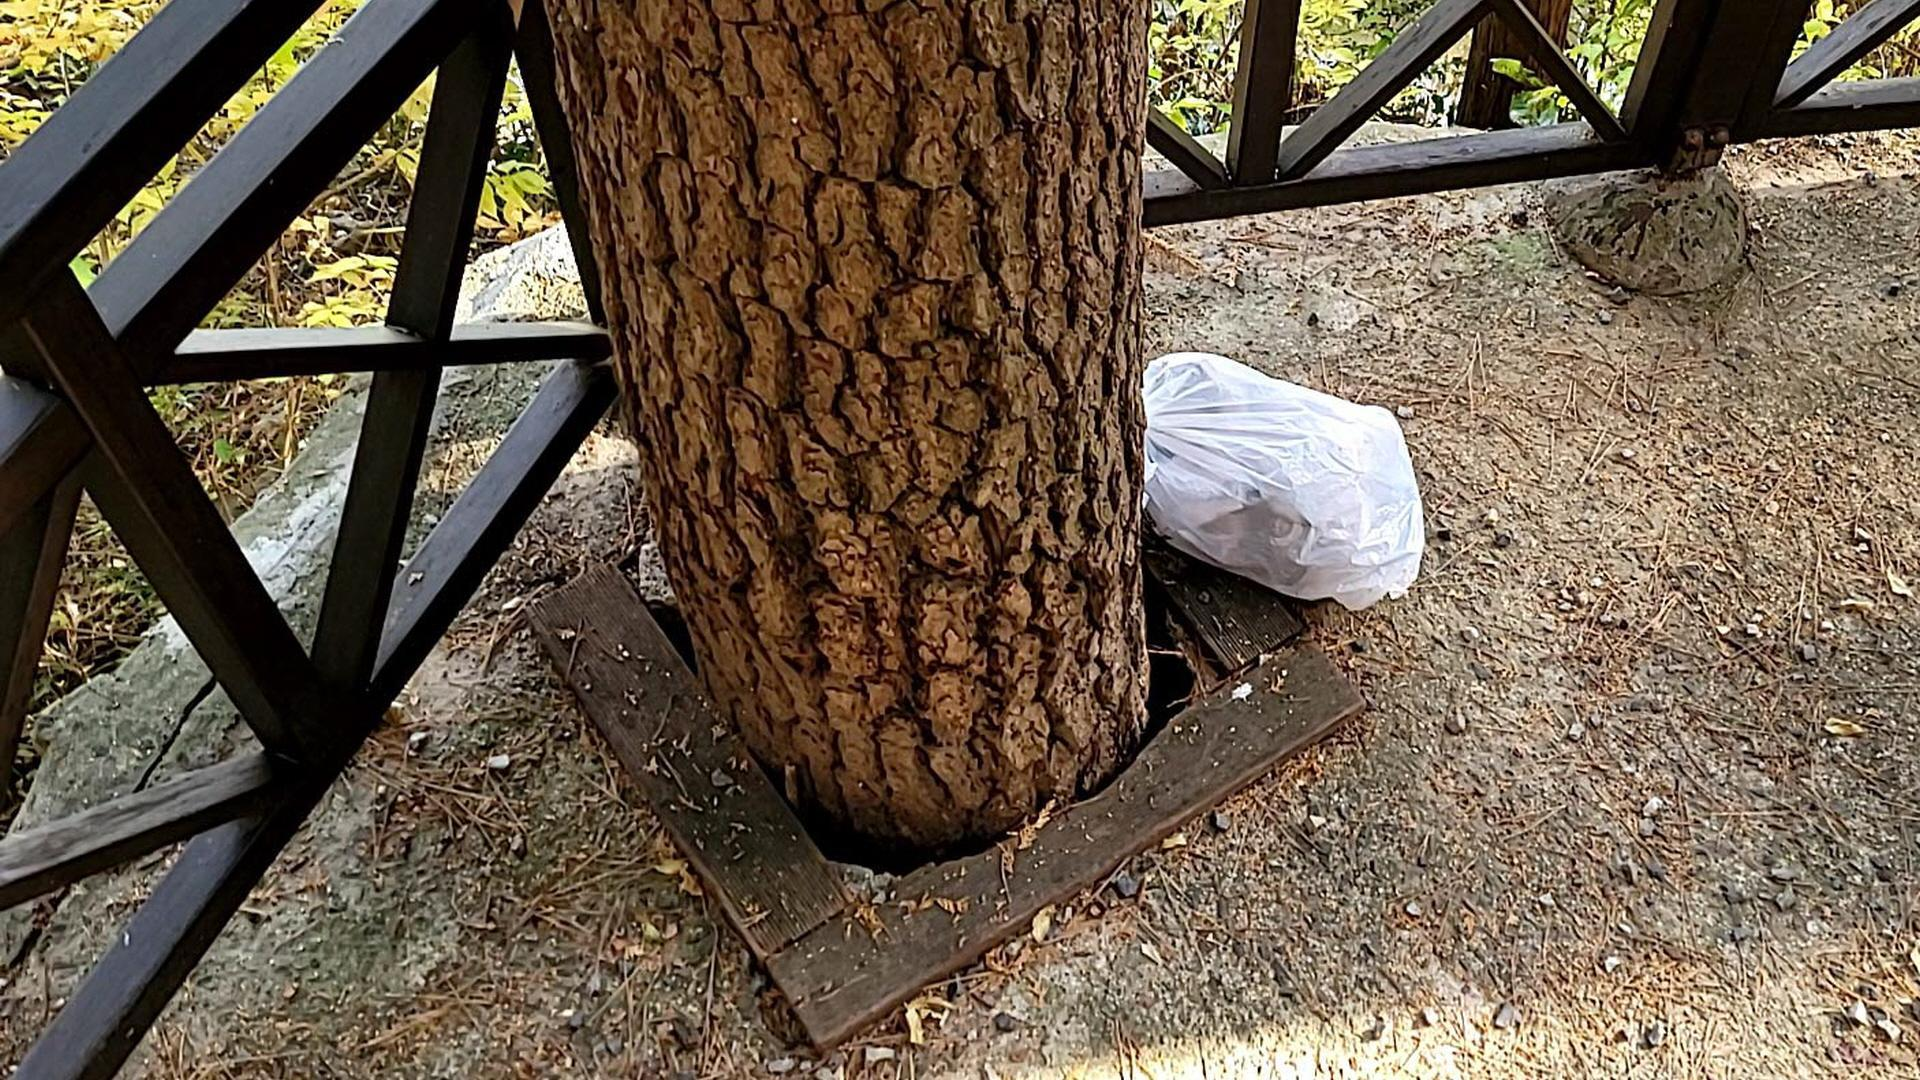white_bag: (1112, 344, 1429, 618)
